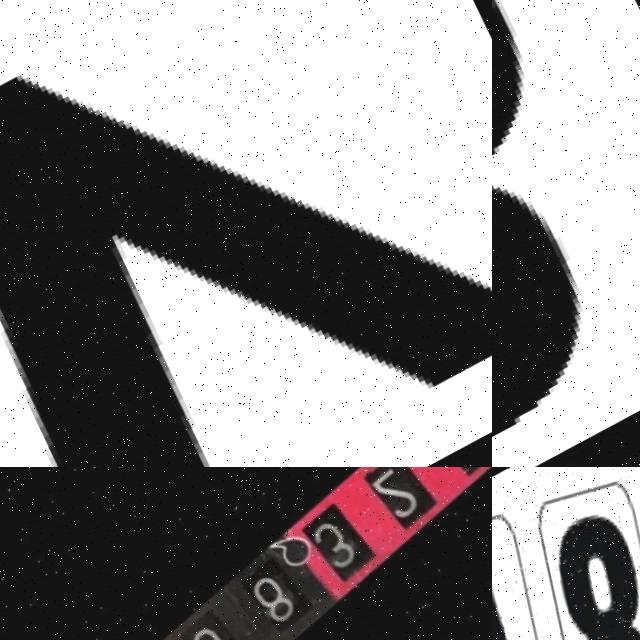2: (363, 467, 432, 539), (438, 467, 492, 490)
3: (301, 511, 375, 592), (177, 614, 253, 640)
7: (492, 526, 601, 640)
8: (497, 489, 640, 640), (236, 561, 315, 640)
B: (492, 183, 586, 443)
V: (0, 0, 492, 467)
